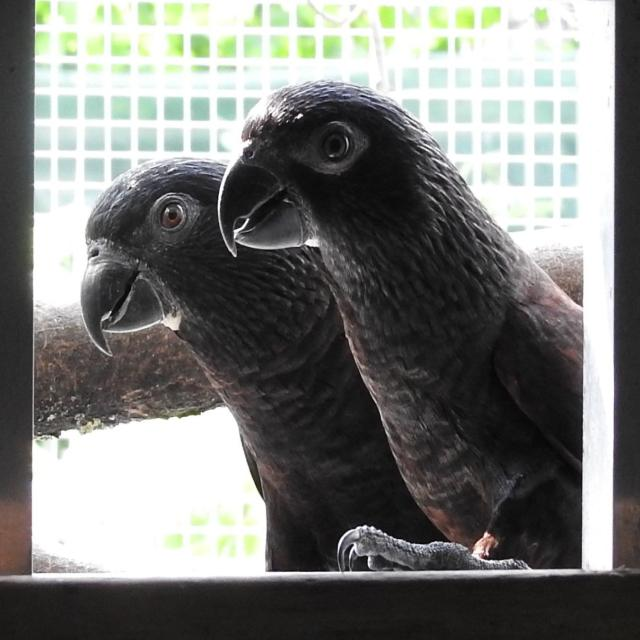Nuri Hitam: (211, 70, 584, 572), (72, 144, 342, 573)
